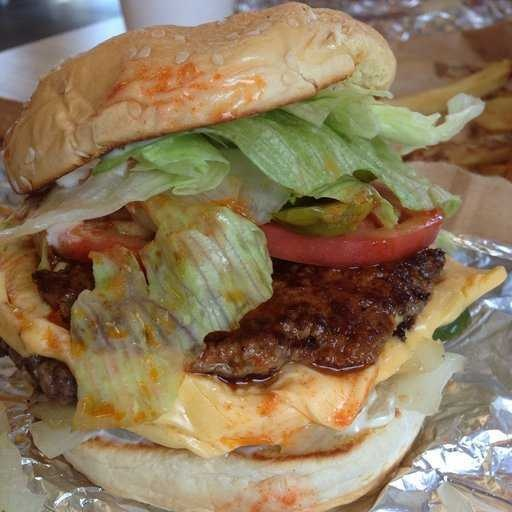hamburger: (9, 11, 435, 445)
